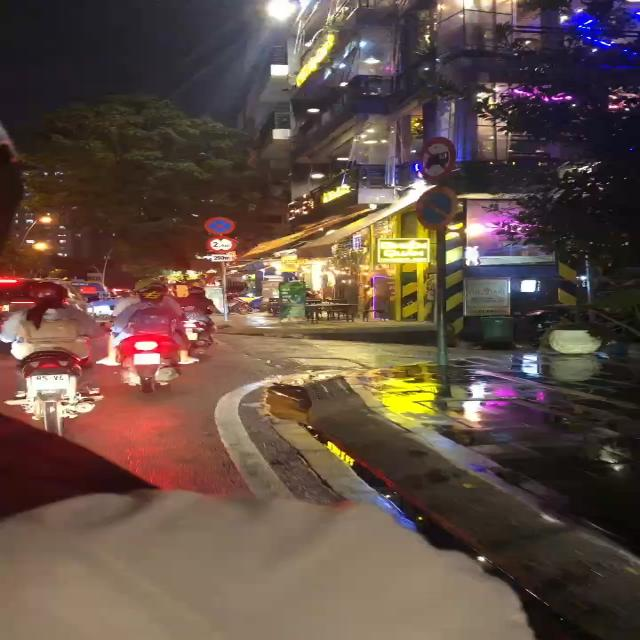Bien bao cam dung xe va do xe: (203, 216, 237, 235)
Bien bao han che chieu cao: (205, 238, 239, 252)
